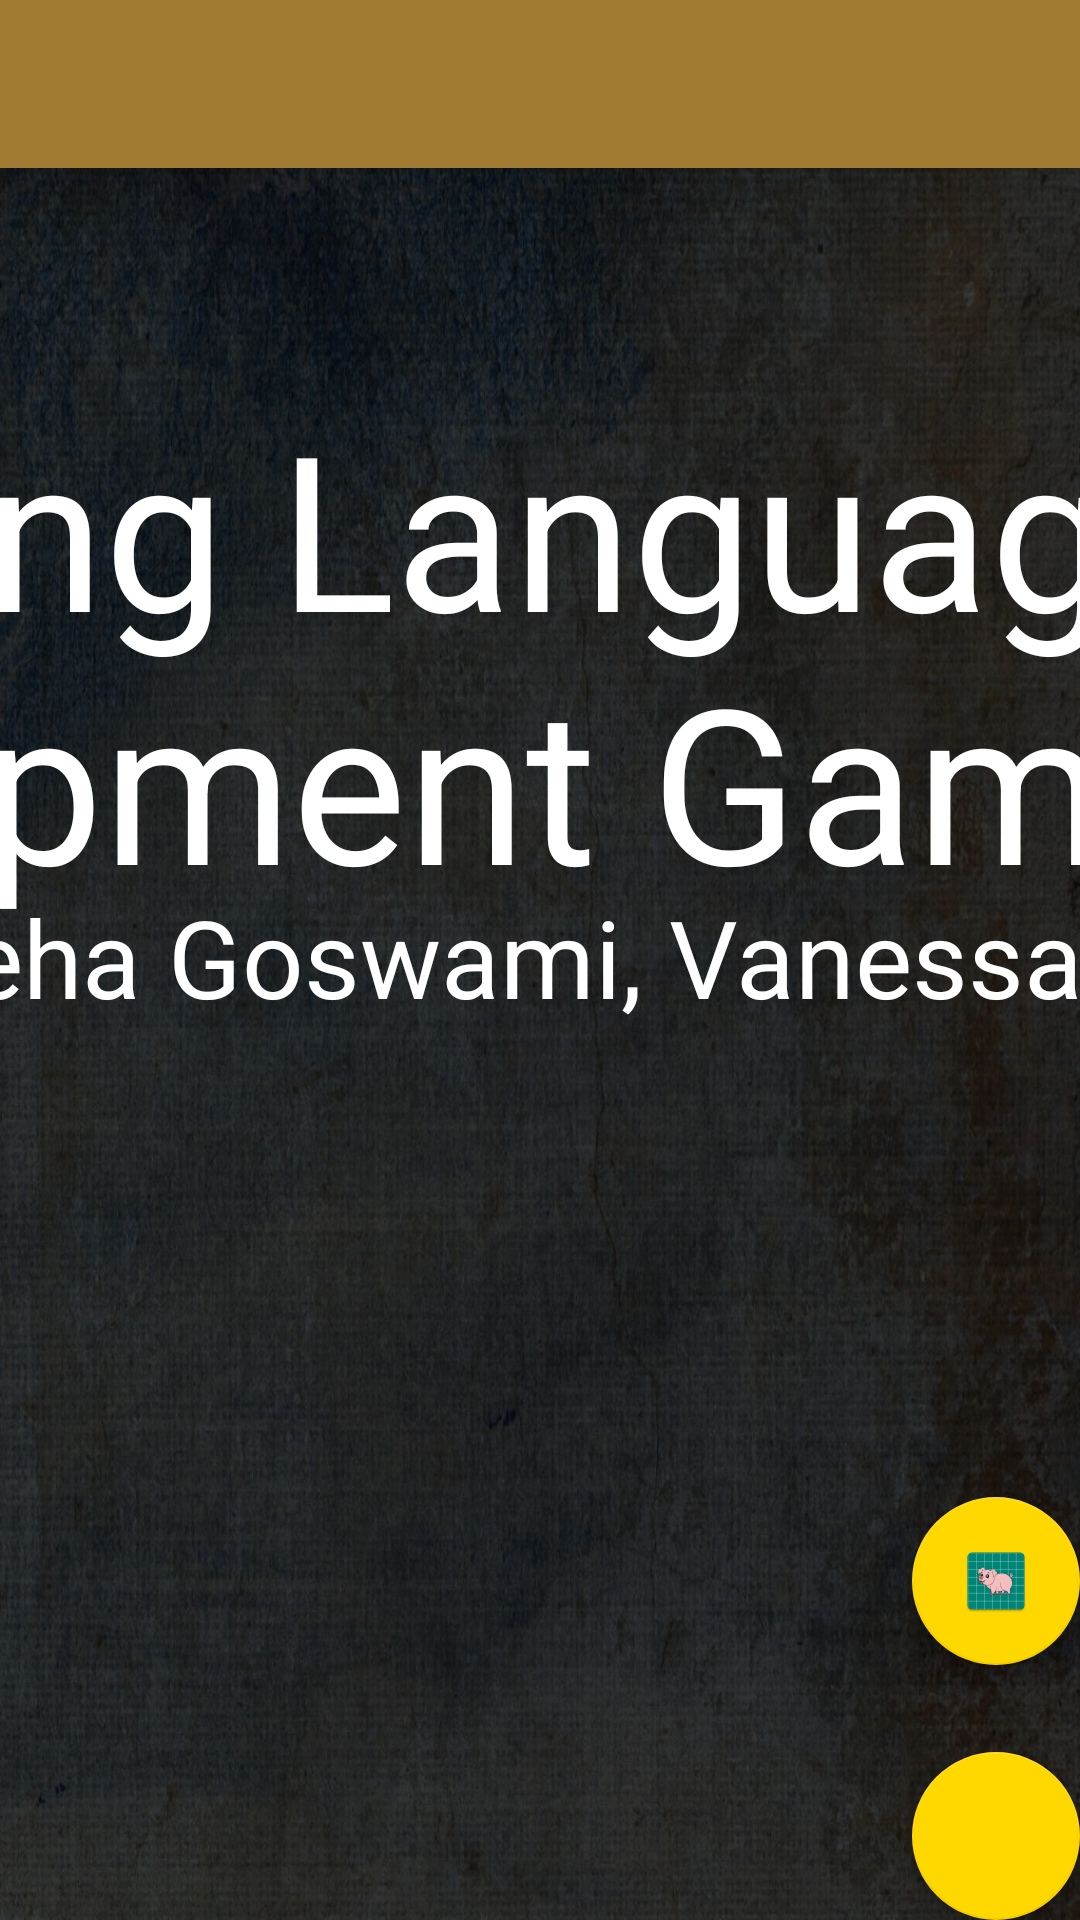

Icon bounding boxes for this 1080 x 1920 phone screenshot, format {"left": x1, "top": y1, "right": x2, "bottom": y2}:
put pig: {"left": 912, "top": 1497, "right": 1080, "bottom": 1665}
